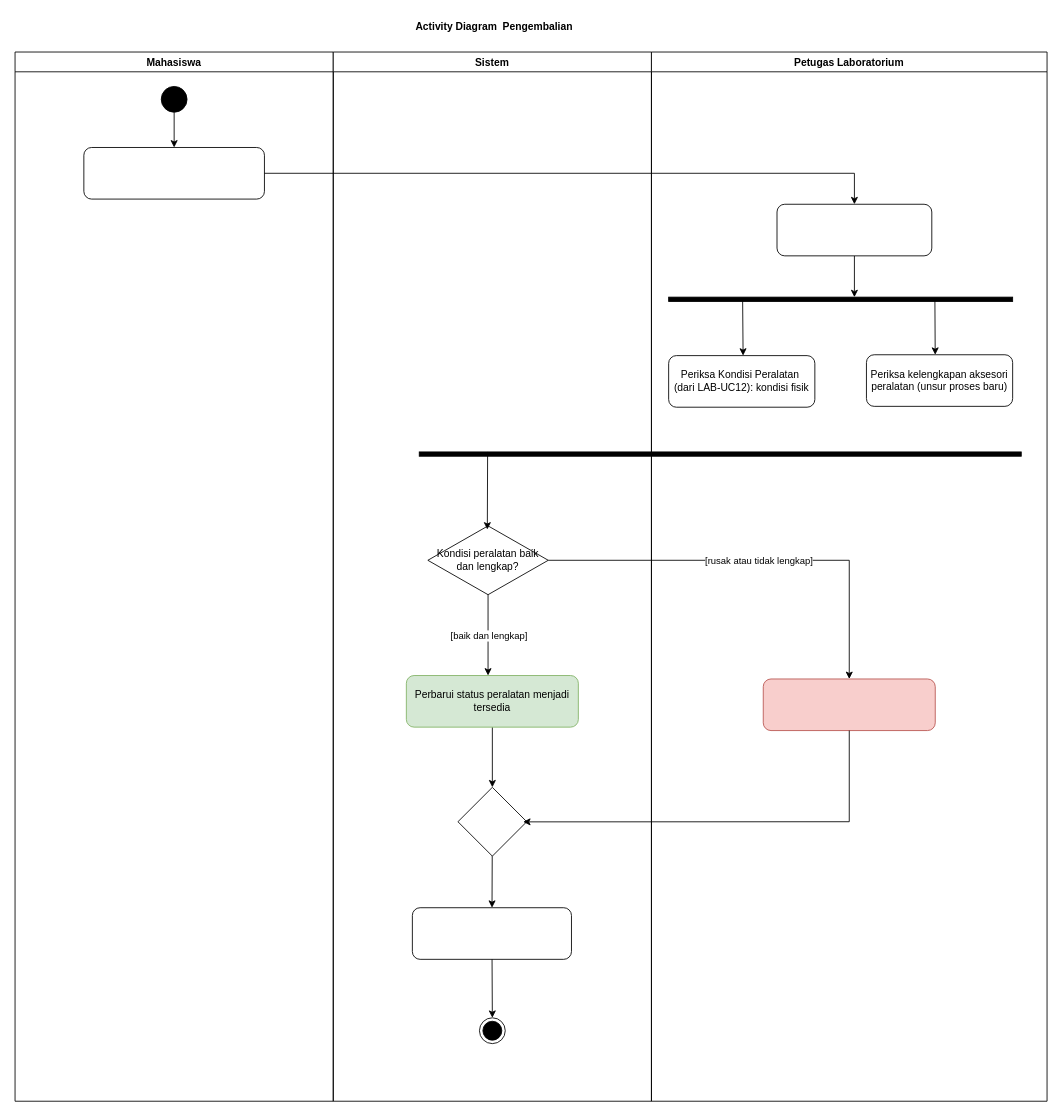
The diagram is 1062 pixels wide and 1116 high, and some of its shapes have lost their labels. Here are the shapes that lost their labels. From the top down, the centre of each, then its label:
At point 173,173: "Menyerahkan peralatan yang dipinjam".
At point 854,229: "Catat Pengembalian Peralatan (LAB-UC11)".
At point 848,704: "Menerima pemberitahuan pengajuan tidak terpenuhi".
At point 491,933: "Menutup transaksi peminjaman".
